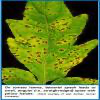Tomato leaf bacterial spot: (5, 2, 97, 84)
